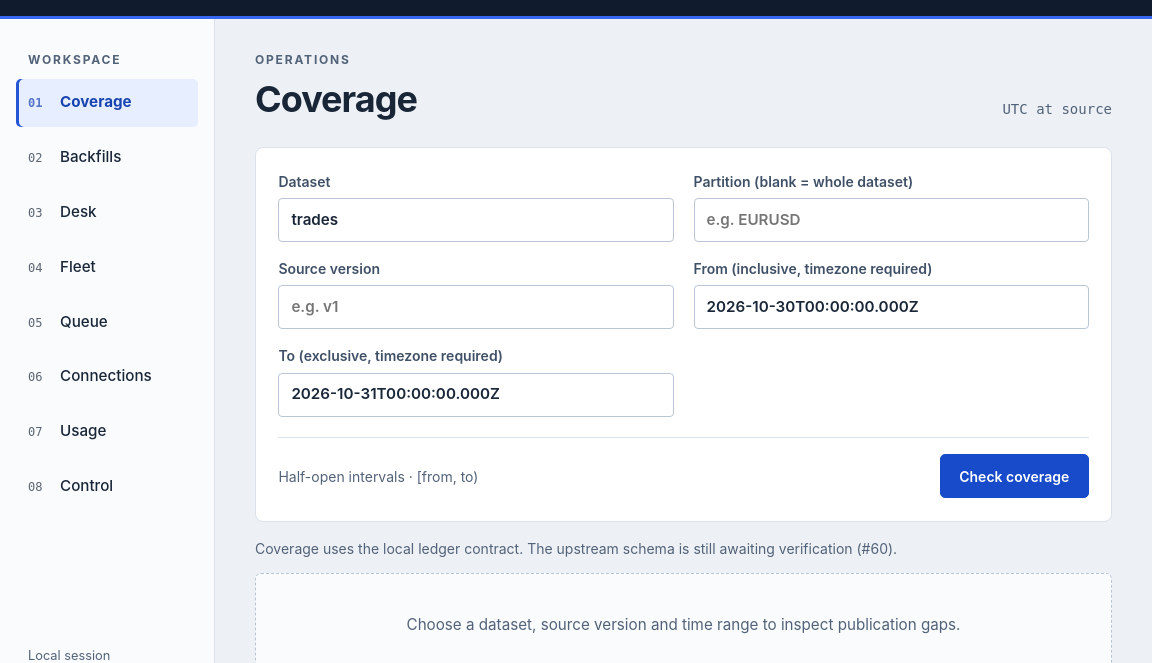
Test: renders coverage gaps for the submitted source release with explicit UTC boundaries
Type "v2" into the field labelled "Source version" at (476, 307), box [278,285,674,329]
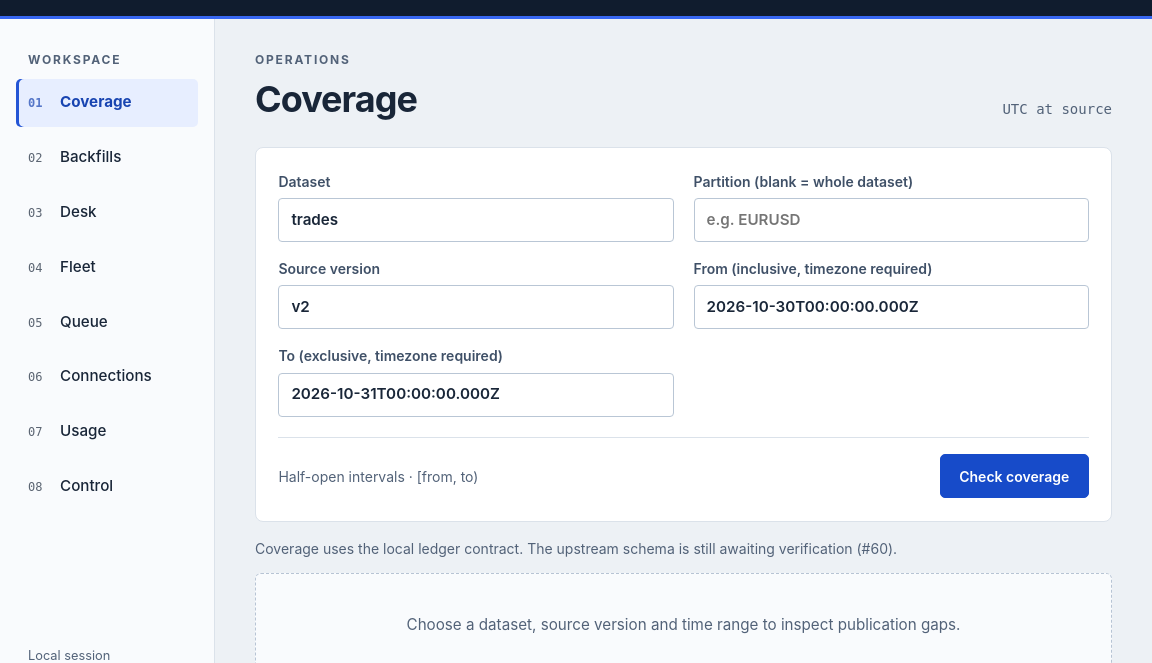
Click the button "Check coverage" at (1014, 476), box [940,454,1089,498]
(page scrolled)
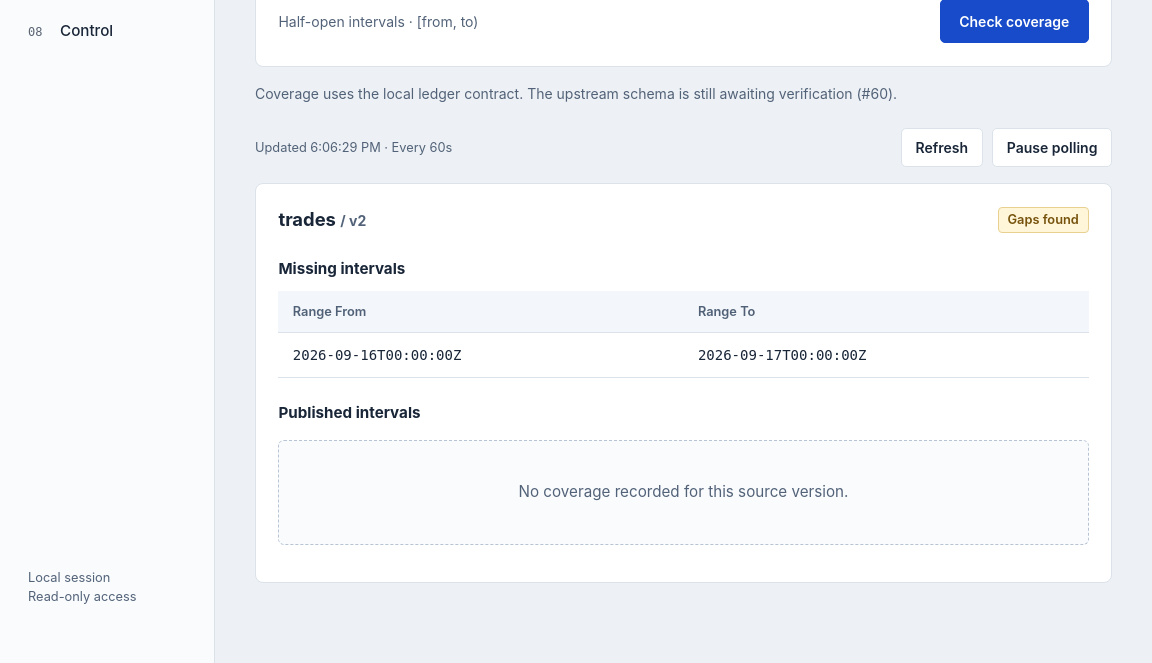
Expected: the text "Gaps found" is shown, [998,207,1089,233]
Expected: the text "2026-09-16T00:00:00Z" is shown, [278,333,684,377]
